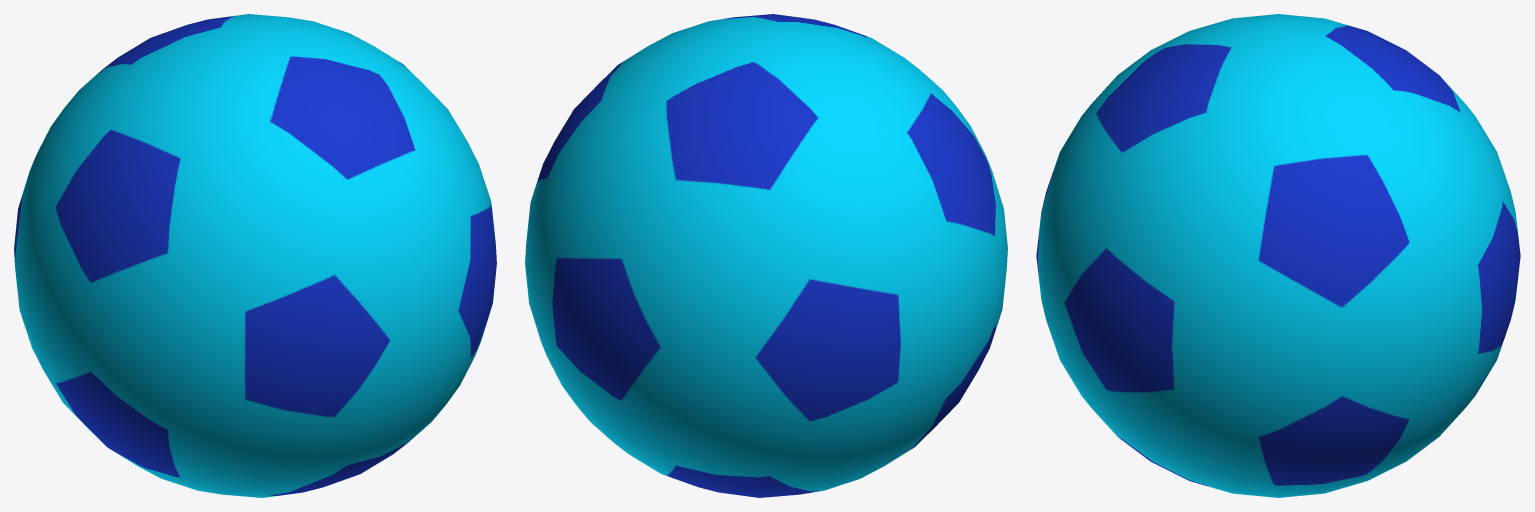
The model's file is Venus.glb.
The picture shows the model from 3 angles, left to right: view 1: azimuth 30°, elevation 25°; view 2: azimuth 150°, elevation 25°; view 3: azimuth 270°, elevation 25°; orthographic projection.
Visible parts, largest first — view 1: Venus; view 2: Venus; view 3: Venus.
Part boxes in pixels (x1,y1,x2,y2): Venus: (14,14,496,497); Venus: (525,14,1007,497); Venus: (1036,14,1520,497).
Size of the model in its own units: 0.5905 by 0.5905 by 0.5905.
1 material, 1 textured.
